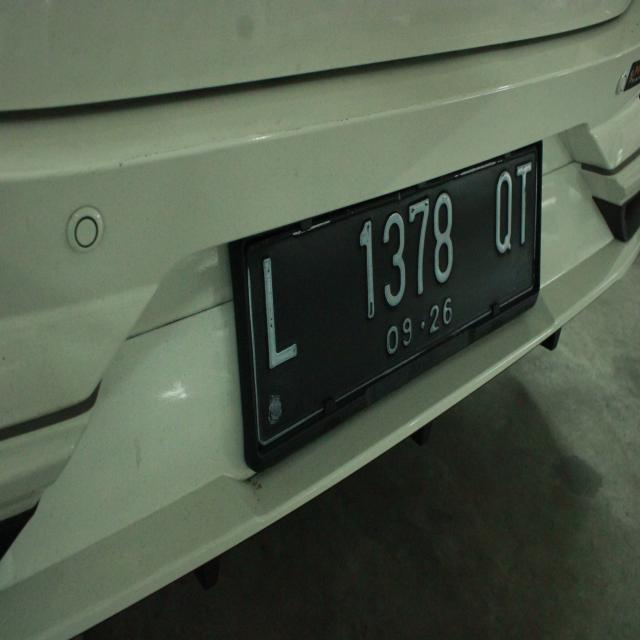1: (352, 213, 386, 324)
3: (378, 206, 410, 312)
7: (403, 199, 435, 295)
8: (430, 188, 463, 286)
L: (252, 254, 304, 368)
Q: (484, 165, 514, 255)
T: (510, 158, 538, 248)
